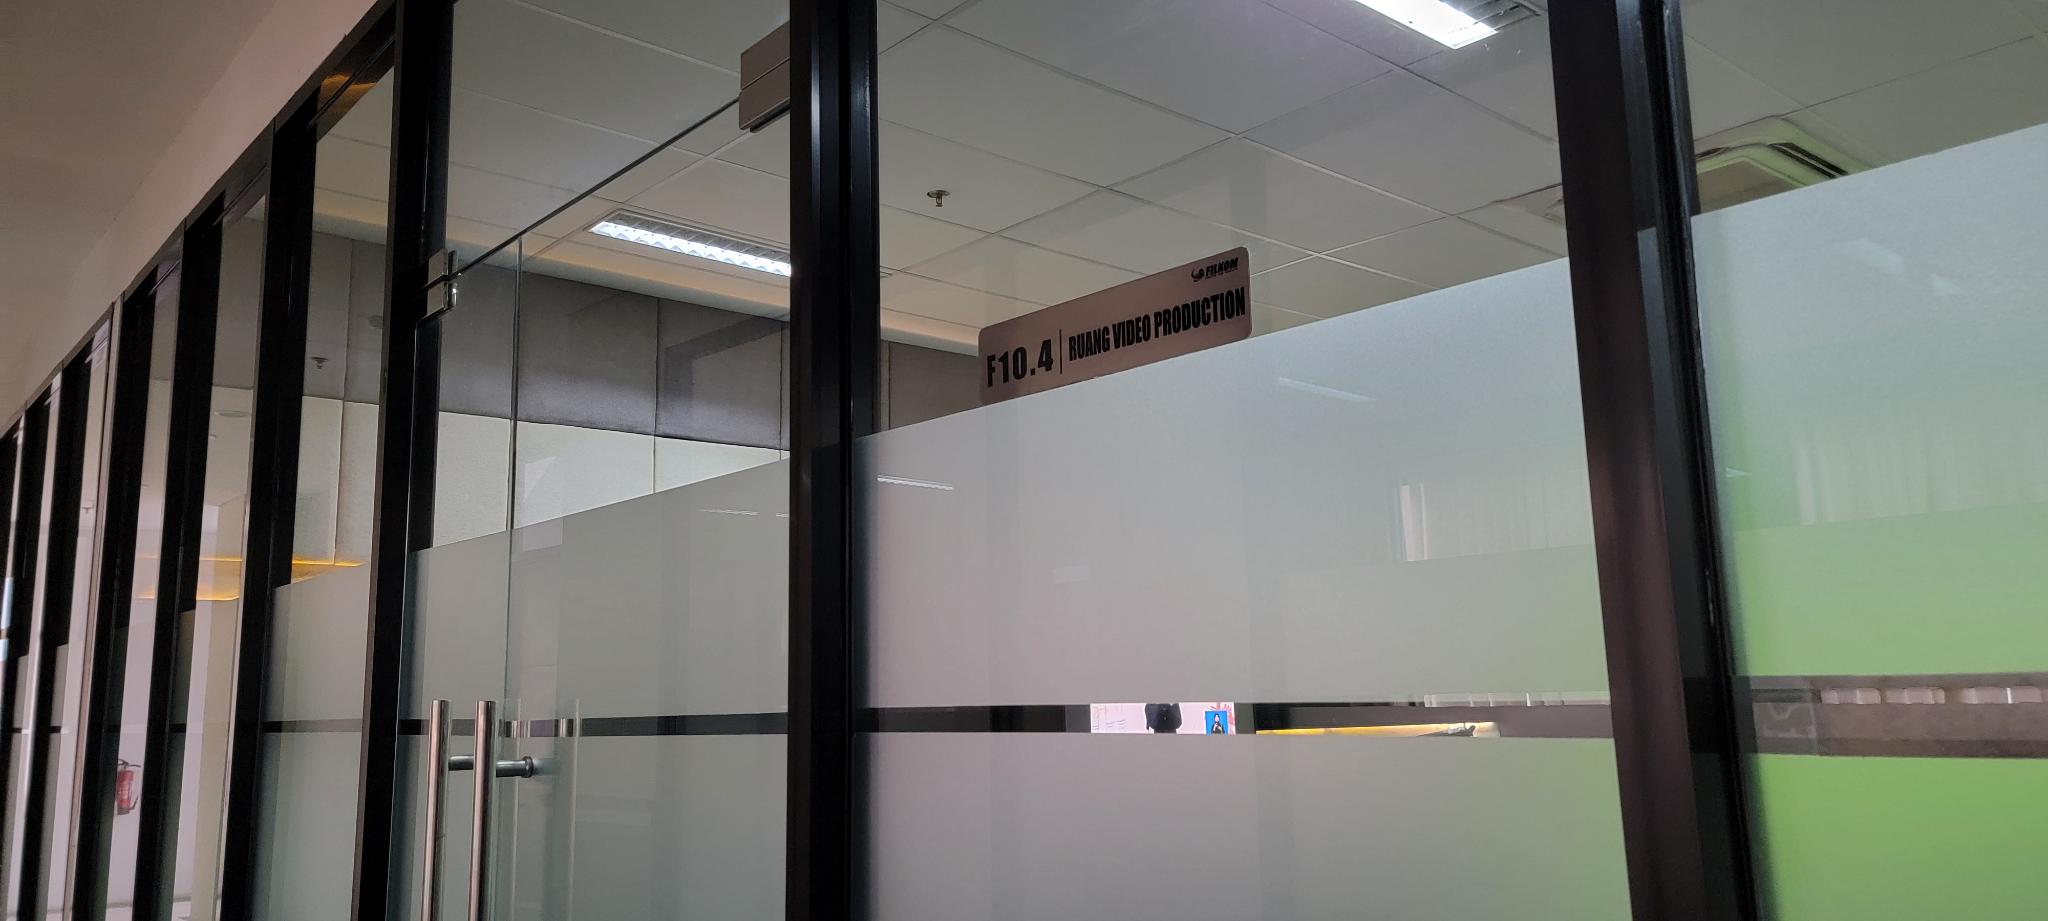plate: (977, 246, 1253, 408)
